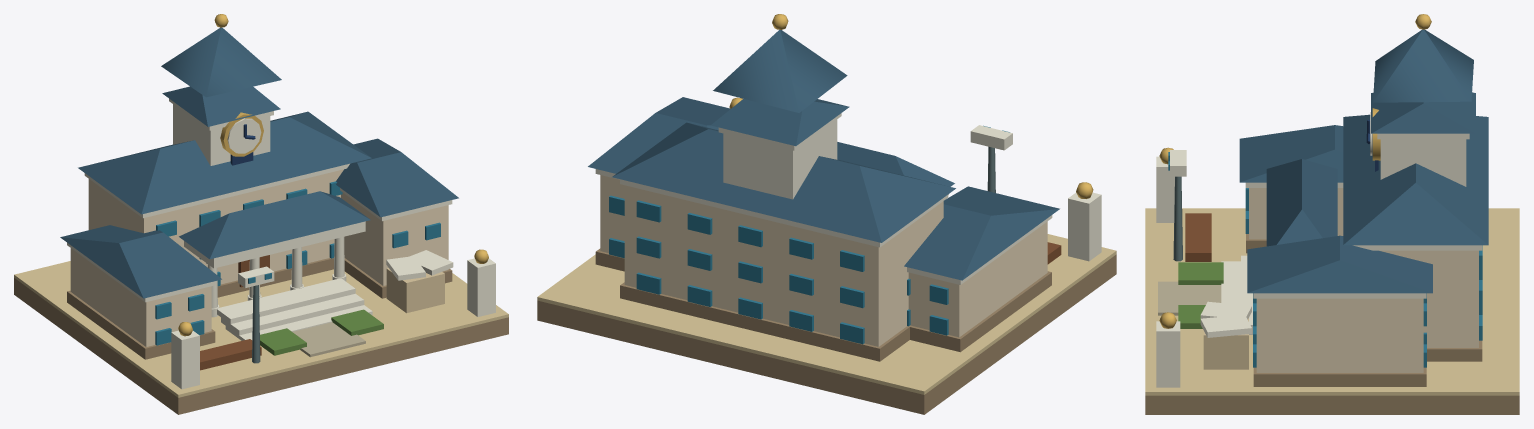
The model's file is university-lv3.glb.
3 views of the same model, side by side, from view 1: azimuth 30°, elevation 25°; view 2: azimuth 150°, elevation 25°; view 3: azimuth 270°, elevation 25° (orthographic). The views are drawn at different scales.
Visible parts, largest first — view 1: foundation_sand, lecture_hall_roof_roof, foundation_stoneDark, portico_pediment_roof, library_wing_roof_roof, lecture_hall_cream, library_wing_cream, science_wing_roof_roof, entrance_steps_white, science_wing_cream, tower_cap_roof, campus_gate_white (+22 smaller); view 2: lecture_hall_cream, lecture_hall_roof_roof, foundation_sand, foundation_stoneDark, library_wing_roof_roof, library_wing_cream, lecture_hall_windows_glass, tower_cap_roof, clock_tower_white, lecture_hall_stoneDark, clock_tower_roof_roof, science_wing_roof_roof (+9 smaller); view 3: foundation_sand, lecture_hall_roof_roof, science_wing_cream, science_wing_roof_roof, foundation_stoneDark, tower_cap_roof, portico_pediment_roof, lecture_hall_cream, library_wing_roof_roof, clock_tower_white, clock_tower_roof_roof, campus_gate_white (+16 smaller).
Part boxes in pixels (x1=…): foundation_sand: x1=14, y1=261, x2=508, y2=397; lecture_hall_roof_roof: x1=78, y1=111, x2=371, y2=214; foundation_stoneDark: x1=14, y1=278, x2=508, y2=414; portico_pediment_roof: x1=179, y1=191, x2=370, y2=259; library_wing_roof_roof: x1=60, y1=225, x2=221, y2=298; lecture_hall_cream: x1=88, y1=169, x2=343, y2=284; library_wing_cream: x1=70, y1=248, x2=211, y2=346; science_wing_roof_roof: x1=336, y1=138, x2=458, y2=217; entrance_steps_white: x1=217, y1=278, x2=372, y2=340; science_wing_cream: x1=341, y1=192, x2=448, y2=285; tower_cap_roof: x1=161, y1=27, x2=281, y2=97; campus_gate_white: x1=171, y1=258, x2=495, y2=389; lecture_hall_cream: x1=624, y1=185, x2=943, y2=346; lecture_hall_roof_roof: x1=612, y1=122, x2=955, y2=242; foundation_sand: x1=537, y1=234, x2=1116, y2=394; foundation_stoneDark: x1=537, y1=254, x2=1116, y2=414; library_wing_roof_roof: x1=904, y1=186, x2=1059, y2=280; library_wing_cream: x1=908, y1=221, x2=1047, y2=337; lecture_hall_windows_glass: x1=636, y1=200, x2=864, y2=344; tower_cap_roof: x1=713, y1=29, x2=847, y2=112; clock_tower_white: x1=718, y1=113, x2=841, y2=199; lecture_hall_stoneDark: x1=620, y1=282, x2=909, y2=361; clock_tower_roof_roof: x1=711, y1=99, x2=849, y2=146; science_wing_roof_roof: x1=588, y1=97, x2=730, y2=173; foundation_sand: x1=1145, y1=208, x2=1519, y2=395; lecture_hall_roof_roof: x1=1343, y1=114, x2=1488, y2=245; science_wing_cream: x1=1256, y1=298, x2=1423, y2=372; science_wing_roof_roof: x1=1247, y1=235, x2=1432, y2=293; foundation_stoneDark: x1=1145, y1=395, x2=1519, y2=414; tower_cap_roof: x1=1373, y1=29, x2=1473, y2=102; portico_pediment_roof: x1=1266, y1=159, x2=1337, y2=246; lecture_hall_cream: x1=1379, y1=250, x2=1478, y2=347; library_wing_roof_roof: x1=1239, y1=125, x2=1343, y2=182; clock_tower_white: x1=1377, y1=133, x2=1469, y2=186; clock_tower_roof_roof: x1=1371, y1=92, x2=1475, y2=133; campus_gate_white: x1=1156, y1=156, x2=1180, y2=387.
Size of the model in its own units: 1 by 0.7837 by 0.8605.
